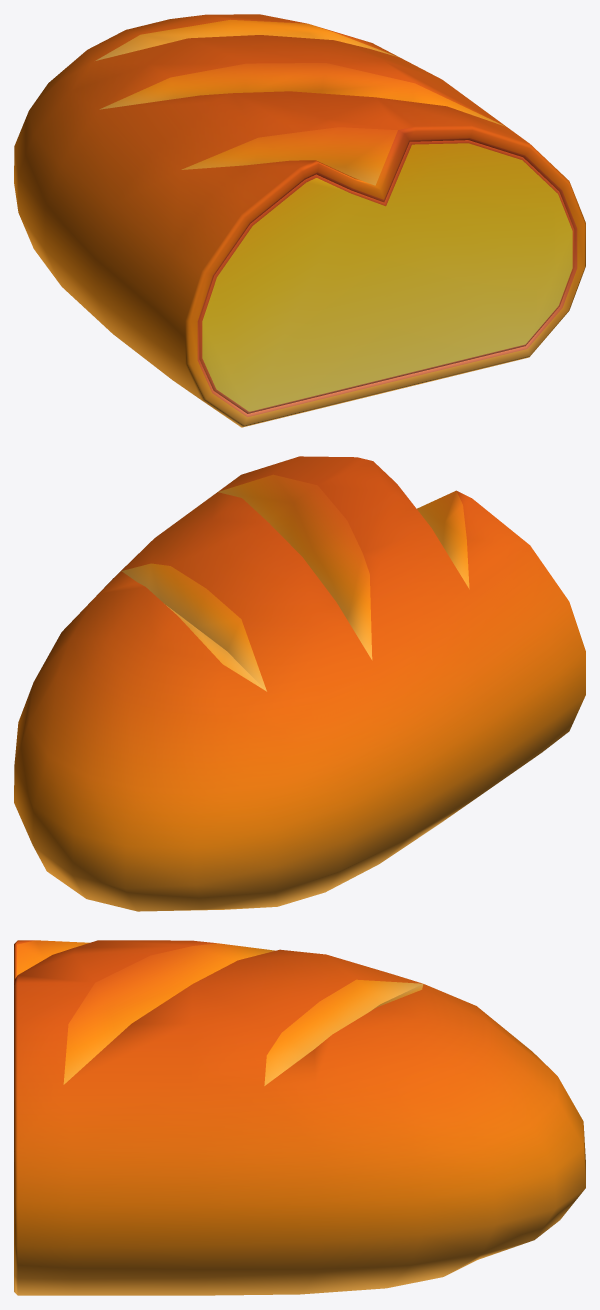
File: loaf_005.fbx
The picture shows the model from 3 angles, top to bottom: view 1: azimuth 30°, elevation 25°; view 2: azimuth 150°, elevation 25°; view 3: azimuth 270°, elevation 25°; orthographic projection.
Visible parts, largest first — view 1: loaf_005; view 2: loaf_005; view 3: loaf_005.
Boxes of the visible parts, x1,y1,x2,y2 form: loaf_005: (14,14,585,427); loaf_005: (14,456,585,911); loaf_005: (14,940,585,1295).
Size of the model in its own units: 14.33 by 17.77 by 8.83.
